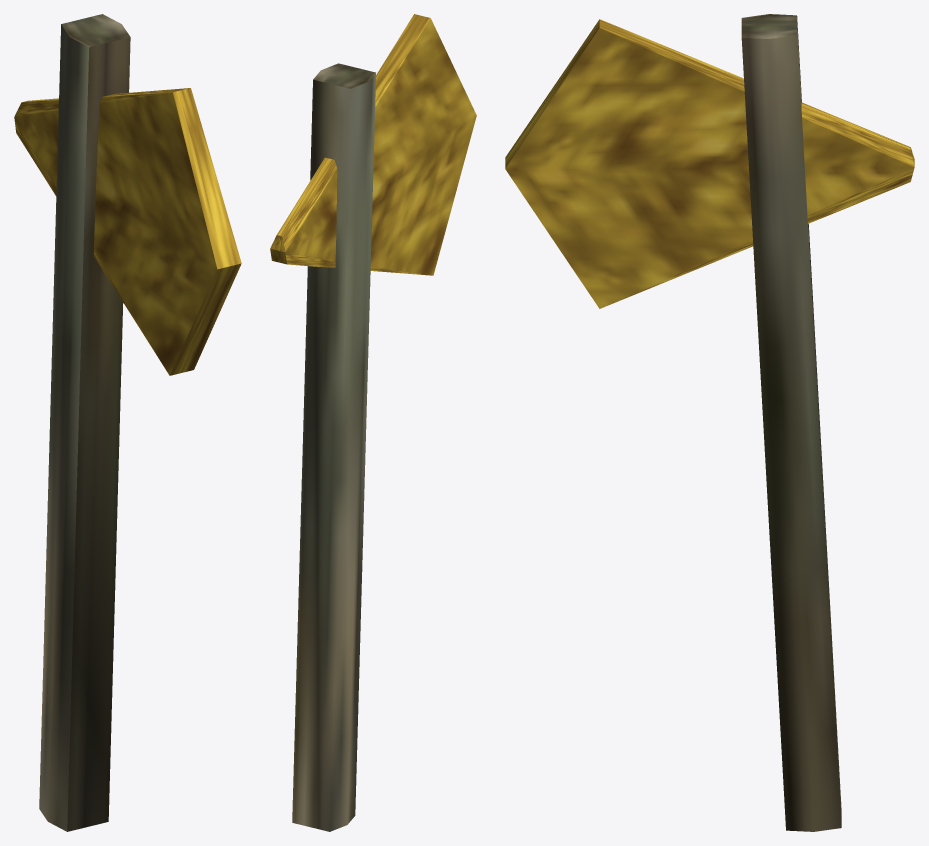
File: moch_axe.dae
3 renders of one model, left to right at view 1: azimuth 30°, elevation 25°; view 2: azimuth 150°, elevation 25°; view 3: azimuth 270°, elevation 25°, orthographic. The views are drawn at different scales.
Visible parts, largest first — view 1: w_axe; view 2: w_axe; view 3: w_axe.
Boxes of the visible parts, left/top/right/bottom form: w_axe: left=14, top=14, right=241, bottom=831; w_axe: left=270, top=14, right=476, bottom=831; w_axe: left=505, top=14, right=914, bottom=831.
Size of the model in its own units: 0.1032 by 0.6993 by 1.5.
